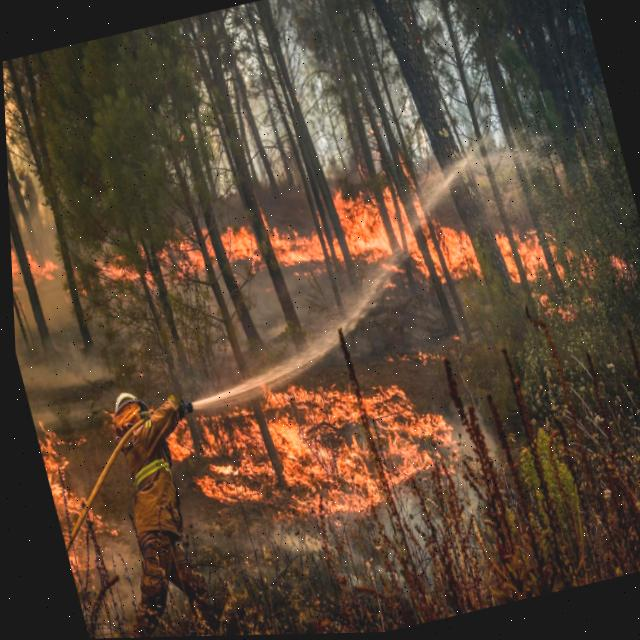fire: (165, 359, 452, 549), (215, 192, 481, 295), (33, 431, 99, 589), (9, 246, 57, 292)
smoke: (10, 283, 87, 401), (236, 275, 291, 349)
